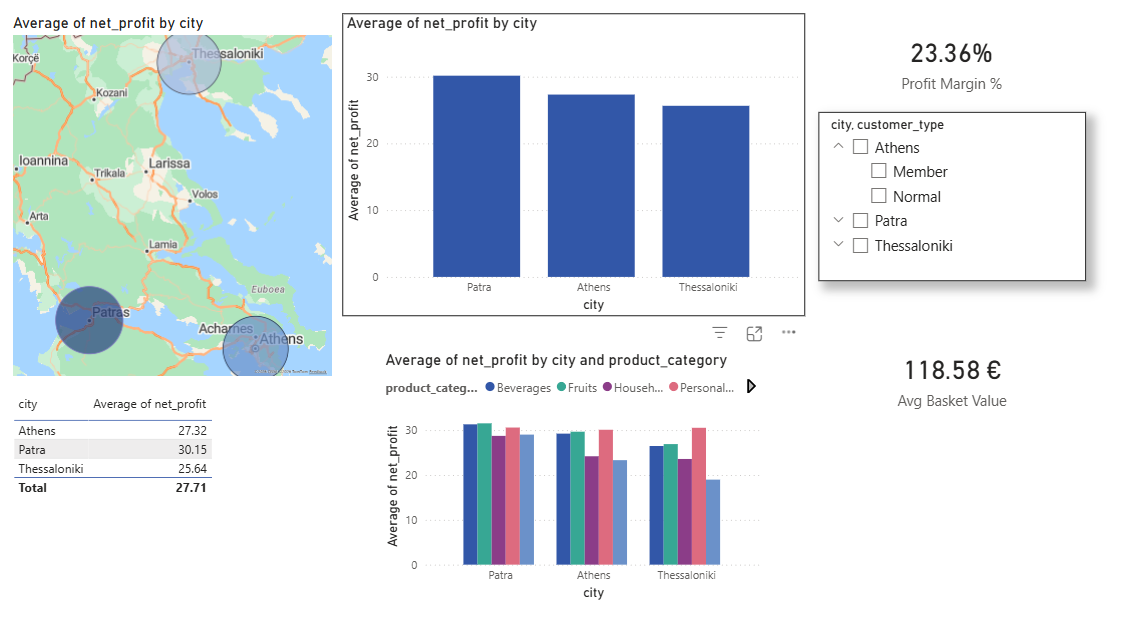

Layout of this report page (visuals, bound fields, positions):
{"tool":"powerbi","page":{"name":"Page 1","canvas":[1280,720],"ordinal":0},"visuals":[{"type":"azureMap","fields":{"Category":["sales.city"],"Size":["Avg(sales.net_profit)1"]},"box":[19.2,23.3,359.5,403.4],"z":0},{"type":"tableEx","fields":{"Values":["sales.city","Avg(sales.net_profit)"]},"box":[19.2,436.4,240.1,131.7],"z":1000},{"type":"clusteredColumnChart","fields":{"Category":["sales.city"],"Y":["Avg(sales.net_profit)"]},"box":[385.6,23.3,507.7,333.4],"z":2000},{"type":"card","fields":{"Values":["sales.Profit Margin %"]},"box":[934.5,0,240.1,150.9],"z":3000},{"type":"slicer","fields":{"Values":["sales.city","sales.customer_type"]},"box":[908.4,131.7,293.7,185.2],"z":4000},{"type":"clusteredColumnChart","fields":{"Category":["sales.city"],"Y":["Avg(sales.net_profit)"],"Series":["sales.product_category"]},"box":[428.1,393.8,422.6,278.6],"z":5000},{"type":"card","fields":{"Values":["sales.Avg Basket Value"]},"box":[908.4,345.8,293.7,156.4],"z":5001}]}

Visuals, with their boxes in screenshot pixels (x1, y1, x2, y2), scaled from the page's 1280x720 canvas onto the 1123x641 screenshot:
azureMap - sales.city x Avg(sales.net_profit)1: {"x1": 17, "y1": 21, "x2": 332, "y2": 380}
tableEx - sales.city x Avg(sales.net_profit): {"x1": 17, "y1": 389, "x2": 227, "y2": 506}
clusteredColumnChart - sales.city x Avg(sales.net_profit): {"x1": 338, "y1": 21, "x2": 784, "y2": 318}
card - sales.Profit Margin %: {"x1": 820, "y1": 0, "x2": 1031, "y2": 134}
slicer - sales.city x sales.customer_type: {"x1": 797, "y1": 117, "x2": 1055, "y2": 282}
clusteredColumnChart - sales.city x Avg(sales.net_profit): {"x1": 376, "y1": 351, "x2": 746, "y2": 599}
card - sales.Avg Basket Value: {"x1": 797, "y1": 308, "x2": 1055, "y2": 447}
